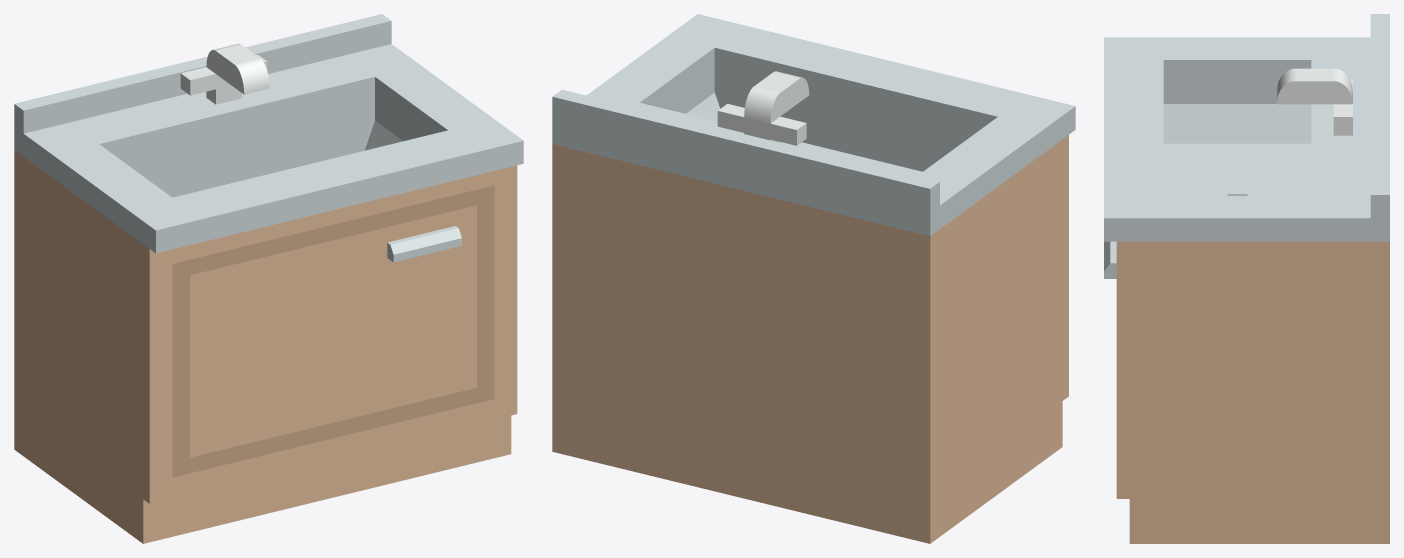
The model's file is kitchen_sink_unit.glb.
The picture shows the model from 3 angles, left to right: view 1: azimuth 30°, elevation 25°; view 2: azimuth 150°, elevation 25°; view 3: azimuth 270°, elevation 25°; orthographic projection. The views are drawn at different scales.
Visible parts, largest first — view 1: kitchenSink(Clone), door_1d4cd3, door_8f3463, kitchenSink(Clone)_063b67, door_bd1985; view 2: kitchenSink(Clone), kitchenSink(Clone)_063b67; view 3: kitchenSink(Clone), kitchenSink(Clone)_063b67, door_bd1985.
Part boxes in pixels (bbox=[...]): kitchenSink(Clone): bbox=[14, 14, 523, 543]; door_1d4cd3: bbox=[190, 205, 476, 457]; door_8f3463: bbox=[172, 185, 494, 477]; kitchenSink(Clone)_063b67: bbox=[180, 43, 269, 104]; door_bd1985: bbox=[387, 226, 461, 262]; kitchenSink(Clone): bbox=[552, 14, 1075, 543]; kitchenSink(Clone)_063b67: bbox=[717, 71, 809, 145]; kitchenSink(Clone): bbox=[1104, 14, 1389, 543]; kitchenSink(Clone)_063b67: bbox=[1276, 68, 1352, 135]; door_bd1985: bbox=[1104, 241, 1116, 278].
Bounding box in the file's own units: 0.9 × 0.88 × 0.6.
